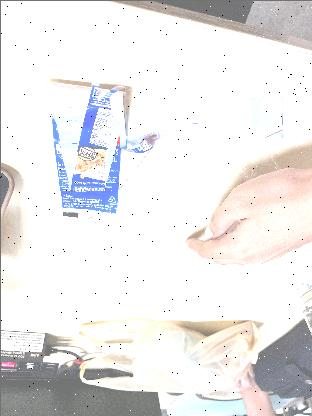Others: (36, 42, 156, 245), (85, 234, 239, 300)
